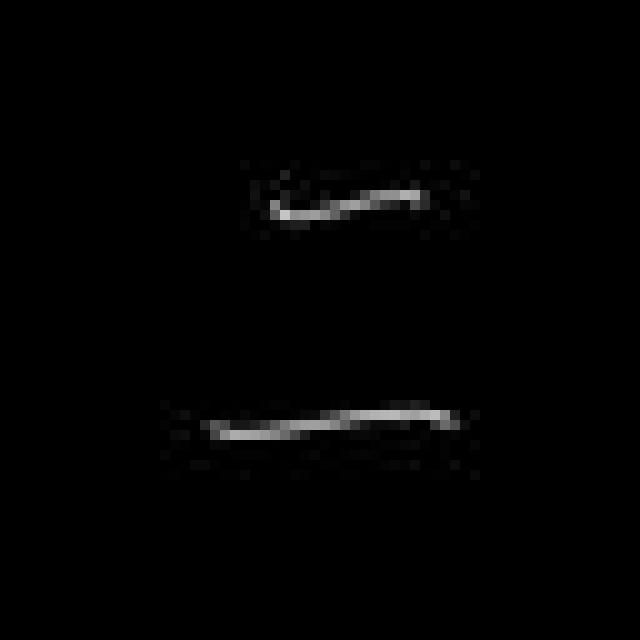2 -two-: (194, 180, 464, 459)
